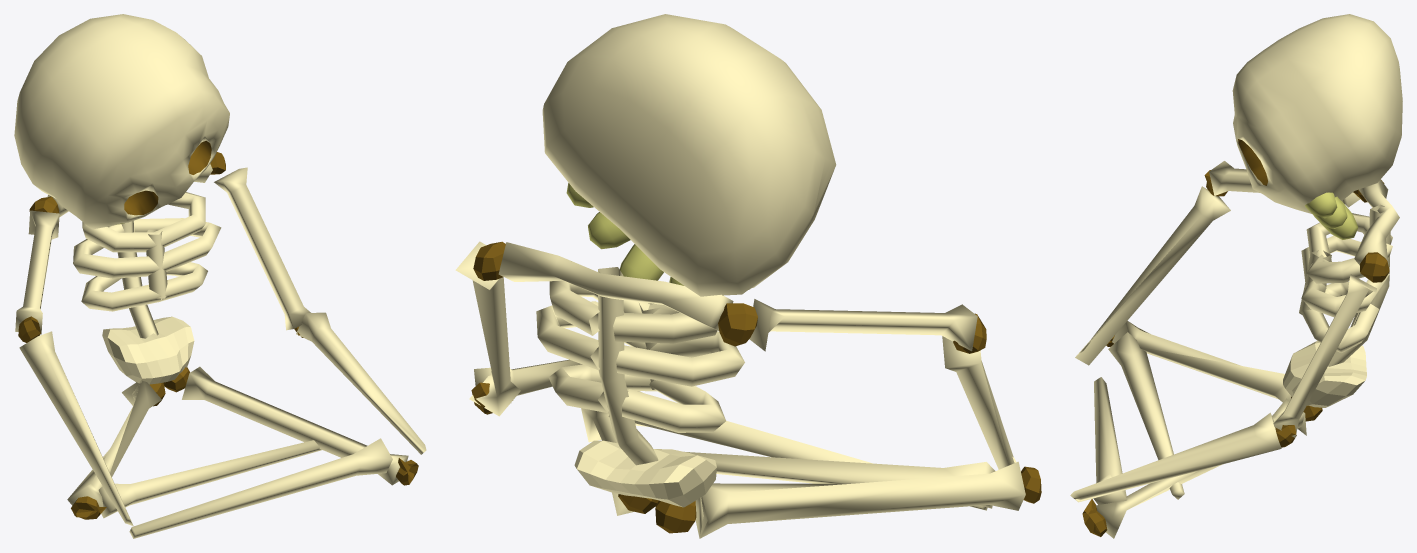
Rendered from Skeleton Sitting 01.fbx.
The picture shows the model from 3 angles, left to right: view 1: azimuth 30°, elevation 25°; view 2: azimuth 150°, elevation 25°; view 3: azimuth 270°, elevation 25°; orthographic projection. The views are drawn at different scales.
Parts seen in each view (by area): view 1: Skelly Meditating; view 2: Skelly Meditating; view 3: Skelly Meditating.
Part boxes in pixels (x1,y1,x2,y2): Skelly Meditating: [14, 14, 426, 538]; Skelly Meditating: [455, 14, 1041, 538]; Skelly Meditating: [1070, 14, 1402, 538].
Bounding box in the file's own units: 83.87 × 119 × 101.
